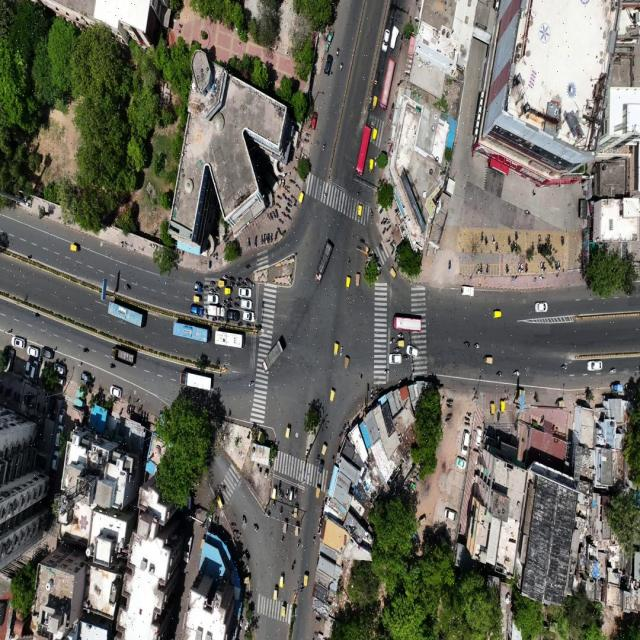3W: (212, 492, 224, 511), (69, 240, 81, 255), (343, 274, 352, 294), (328, 386, 337, 406), (283, 420, 292, 440), (386, 265, 398, 280), (491, 308, 504, 321), (321, 441, 331, 457), (332, 339, 339, 361), (373, 67, 380, 89), (489, 396, 496, 418), (354, 271, 362, 290), (371, 126, 379, 145), (192, 292, 203, 305), (279, 570, 286, 590), (293, 521, 302, 536), (368, 155, 374, 177), (482, 354, 493, 366), (193, 281, 203, 294), (297, 191, 306, 205), (272, 584, 279, 602), (281, 601, 288, 619), (293, 502, 300, 520), (356, 204, 363, 222), (282, 518, 289, 535), (500, 397, 506, 416), (303, 573, 310, 589), (344, 355, 350, 373), (315, 484, 321, 501), (319, 460, 325, 477), (271, 483, 277, 500), (223, 286, 233, 296), (373, 95, 378, 114), (218, 280, 227, 288), (340, 344, 344, 361), (396, 340, 405, 347)
Bus: (107, 300, 146, 334), (379, 59, 399, 114), (172, 321, 210, 346), (356, 123, 372, 180), (214, 330, 246, 352), (390, 313, 427, 331)
Cars: (51, 425, 67, 448), (459, 428, 472, 456), (444, 503, 458, 525), (49, 450, 63, 470), (380, 26, 390, 54), (460, 283, 476, 300), (406, 343, 422, 359), (109, 383, 124, 400), (324, 54, 334, 79), (585, 359, 604, 372), (533, 299, 549, 314), (57, 406, 70, 424), (42, 344, 56, 360), (52, 363, 68, 377), (11, 336, 27, 349), (310, 109, 319, 131), (188, 305, 204, 317), (204, 293, 220, 305), (387, 354, 403, 366), (23, 359, 32, 380), (241, 310, 256, 322), (32, 359, 40, 381), (238, 287, 253, 298), (27, 345, 40, 357), (239, 300, 253, 310), (227, 310, 241, 320), (289, 486, 294, 502)
LCV: (207, 306, 226, 317)
M2W: (355, 184, 363, 200), (251, 521, 260, 535), (386, 112, 394, 127), (608, 366, 619, 376), (123, 280, 131, 293), (504, 259, 510, 276), (559, 361, 569, 371), (82, 344, 90, 356), (322, 138, 328, 154), (368, 92, 374, 108), (447, 254, 452, 273), (377, 240, 384, 253), (524, 205, 531, 218), (243, 262, 252, 272), (291, 556, 297, 571), (296, 538, 302, 553), (511, 368, 521, 377), (247, 379, 255, 390), (246, 235, 252, 249), (346, 255, 352, 269), (240, 514, 247, 526), (335, 45, 341, 59), (463, 336, 470, 348), (465, 408, 474, 417), (253, 234, 258, 250), (315, 453, 321, 466), (369, 208, 375, 221), (483, 234, 489, 247), (524, 261, 530, 274), (31, 312, 40, 320), (265, 212, 271, 224), (275, 194, 283, 203), (265, 507, 271, 519), (338, 62, 344, 74), (370, 118, 376, 130), (546, 232, 552, 244), (403, 351, 408, 365), (388, 335, 395, 345), (474, 340, 481, 350), (496, 369, 503, 379), (497, 412, 502, 426), (390, 101, 396, 112), (445, 397, 456, 403), (480, 261, 484, 277), (109, 360, 116, 369), (289, 177, 296, 186), (295, 486, 299, 501), (485, 262, 490, 274), (490, 233, 495, 245), (537, 231, 542, 243), (446, 403, 456, 409), (475, 263, 480, 274), (538, 261, 543, 272), (560, 235, 565, 246), (557, 259, 562, 270), (278, 216, 284, 225), (285, 187, 291, 196), (271, 502, 277, 511), (446, 412, 455, 418), (313, 533, 317, 546), (480, 230, 484, 243), (381, 226, 386, 236), (514, 230, 519, 240), (233, 302, 240, 309), (393, 347, 400, 354), (464, 416, 471, 423), (275, 230, 279, 242), (286, 203, 294, 209), (295, 184, 301, 192), (286, 486, 289, 502), (507, 232, 511, 244), (544, 261, 548, 273), (282, 210, 287, 219), (380, 215, 385, 224), (463, 422, 472, 427), (280, 505, 284, 516), (517, 263, 521, 274), (210, 280, 216, 287), (203, 284, 209, 291), (222, 273, 228, 280), (226, 297, 233, 303), (226, 303, 233, 309), (229, 275, 235, 282), (260, 232, 263, 246), (386, 225, 392, 232), (397, 333, 404, 339), (272, 211, 276, 221), (236, 276, 242, 282), (265, 234, 268, 246), (270, 232, 273, 244), (276, 203, 282, 209), (278, 479, 281, 491), (391, 247, 395, 256), (387, 236, 391, 245), (281, 492, 284, 503), (242, 282, 248, 287), (235, 282, 241, 287), (250, 281, 254, 287), (221, 299, 225, 305)
Truck: (310, 237, 336, 288), (177, 365, 213, 399), (260, 339, 293, 373), (109, 343, 139, 372)
